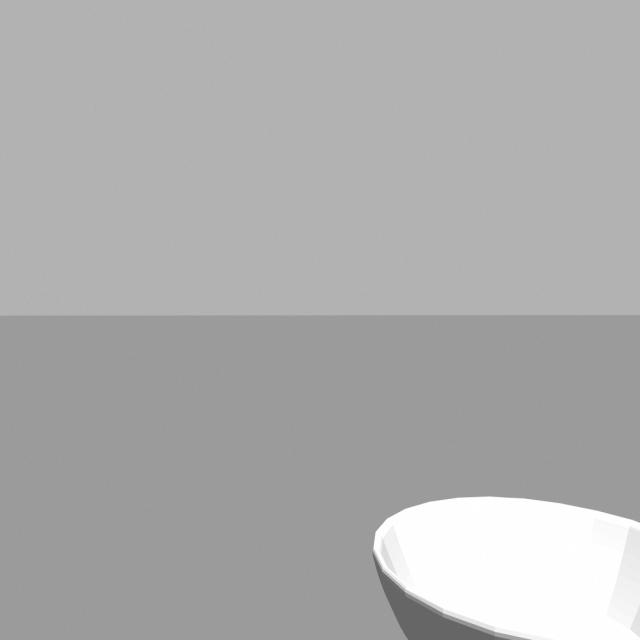bowl: (348, 473, 640, 640)
